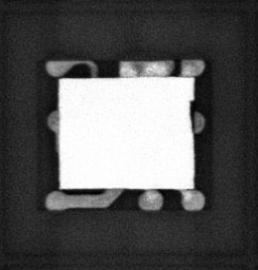DIE_BROKEN: (188, 98, 196, 132)
